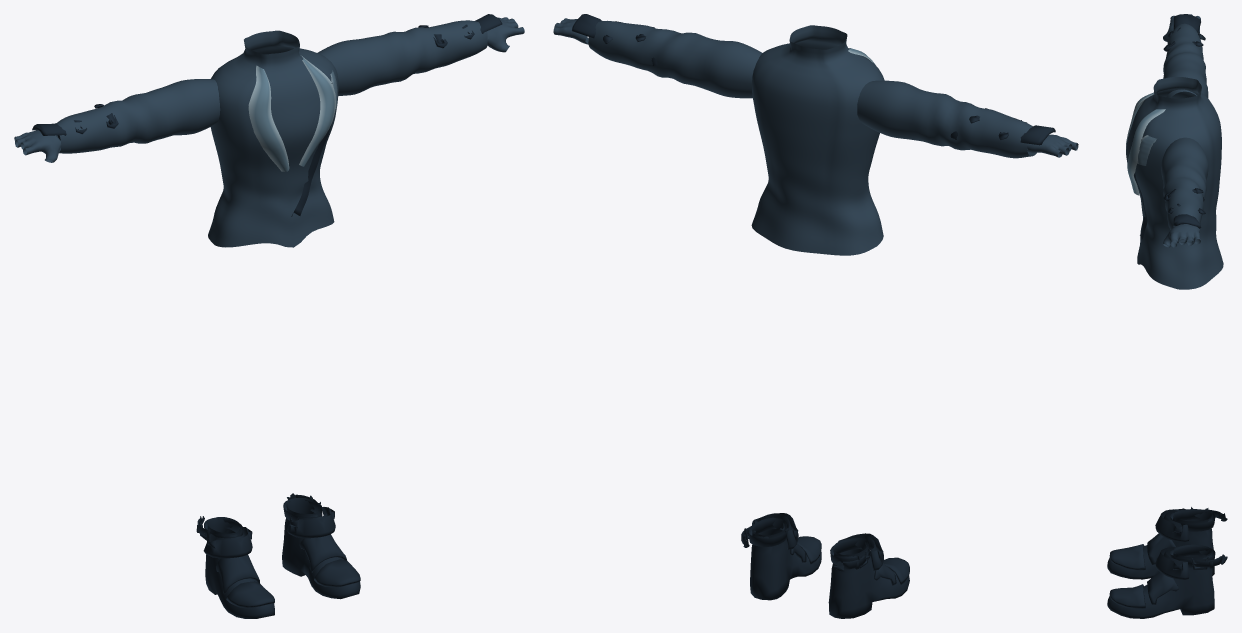
File: silver-attire-8b9117e09dae.glb
The picture shows the model from 3 angles, left to right: view 1: azimuth 30°, elevation 25°; view 2: azimuth 150°, elevation 25°; view 3: azimuth 270°, elevation 25°; orthographic projection. The views are drawn at different scales.
Visible parts, largest first — view 1: SM_Hero_Body_silver, SM_Hero_Sleeves_silver, SM_Hero_Boots_silver, SM_Hero_Lapel_L_silver, SM_Hero_Lapel_R_silver, SM_Hero_Bracers_silver; view 2: SM_Hero_Body_silver, SM_Hero_Sleeves_silver, SM_Hero_Boots_silver, SM_Hero_Bracers_silver; view 3: SM_Hero_Body_silver, SM_Hero_Boots_silver, SM_Hero_Sleeves_silver, SM_Hero_Bracers_silver, SM_Hero_Lapel_R_silver, SM_Hero_ShoulderYoke_silver, SM_Hero_Lapel_L_silver.
Boxes of the visible parts, x1,y1,x2,y2 form: SM_Hero_Body_silver: (208,30,338,247); SM_Hero_Sleeves_silver: (14,17,524,162); SM_Hero_Boots_silver: (196,493,360,618); SM_Hero_Lapel_L_silver: (248,65,289,171); SM_Hero_Lapel_R_silver: (299,55,335,166); SM_Hero_Bracers_silver: (32,14,502,140); SM_Hero_Body_silver: (751,25,884,255); SM_Hero_Sleeves_silver: (553,18,1078,158); SM_Hero_Boots_silver: (741,513,909,618); SM_Hero_Bracers_silver: (571,14,1055,145); SM_Hero_Body_silver: (1126,77,1223,289); SM_Hero_Boots_silver: (1107,507,1227,618); SM_Hero_Sleeves_silver: (1161,14,1208,247); SM_Hero_Bracers_silver: (1163,14,1205,228); SM_Hero_Lapel_R_silver: (1127,109,1165,195); SM_Hero_ShoulderYoke_silver: (1137,135,1156,165); SM_Hero_Lapel_L_silver: (1126,92,1153,148).
Bounding box in the file's own units: 1.5 × 1.55 × 0.3364.
